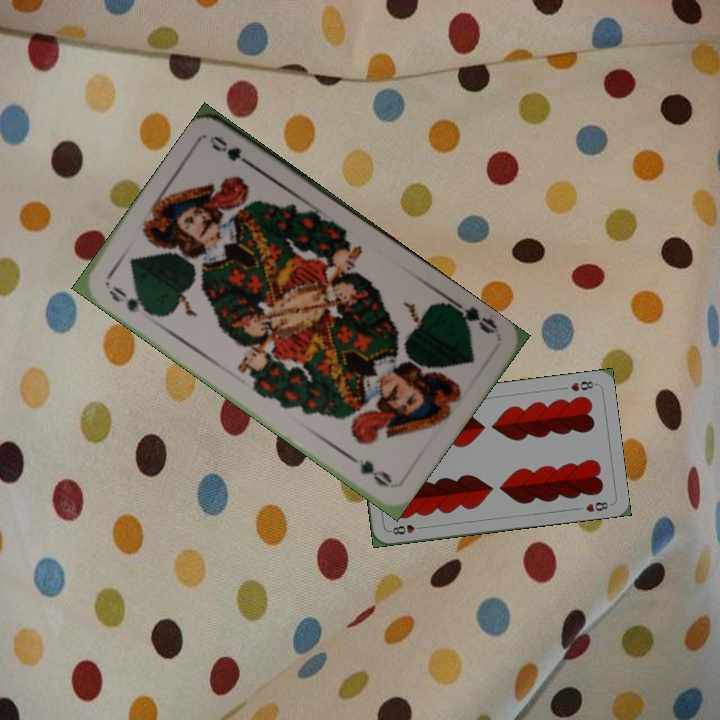GO: (447, 296, 501, 337), (105, 282, 156, 319)
H8: (386, 520, 426, 537), (567, 377, 598, 394)
